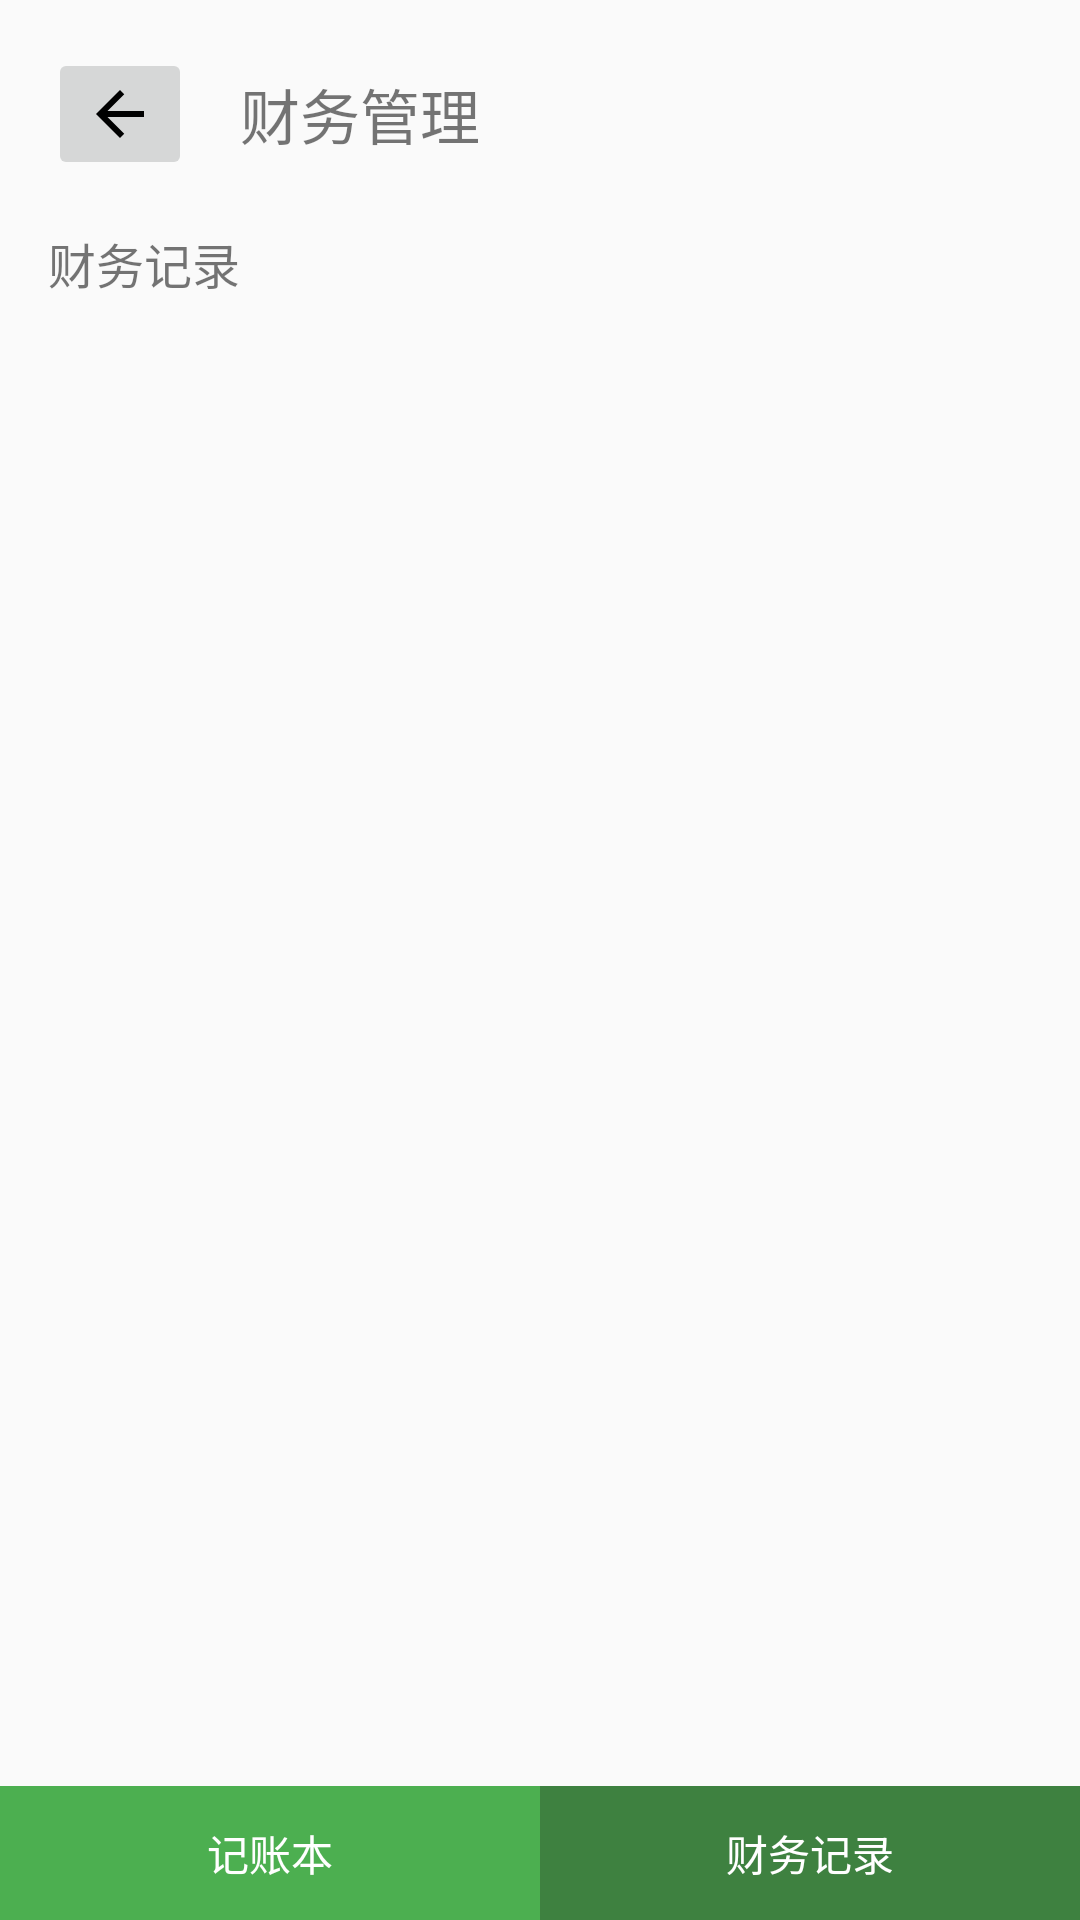

Named icons in this screenshot (1080*1920) and their bounding boxes, [x1,y1,x2,y2]:
back: [60,66,180,162]
